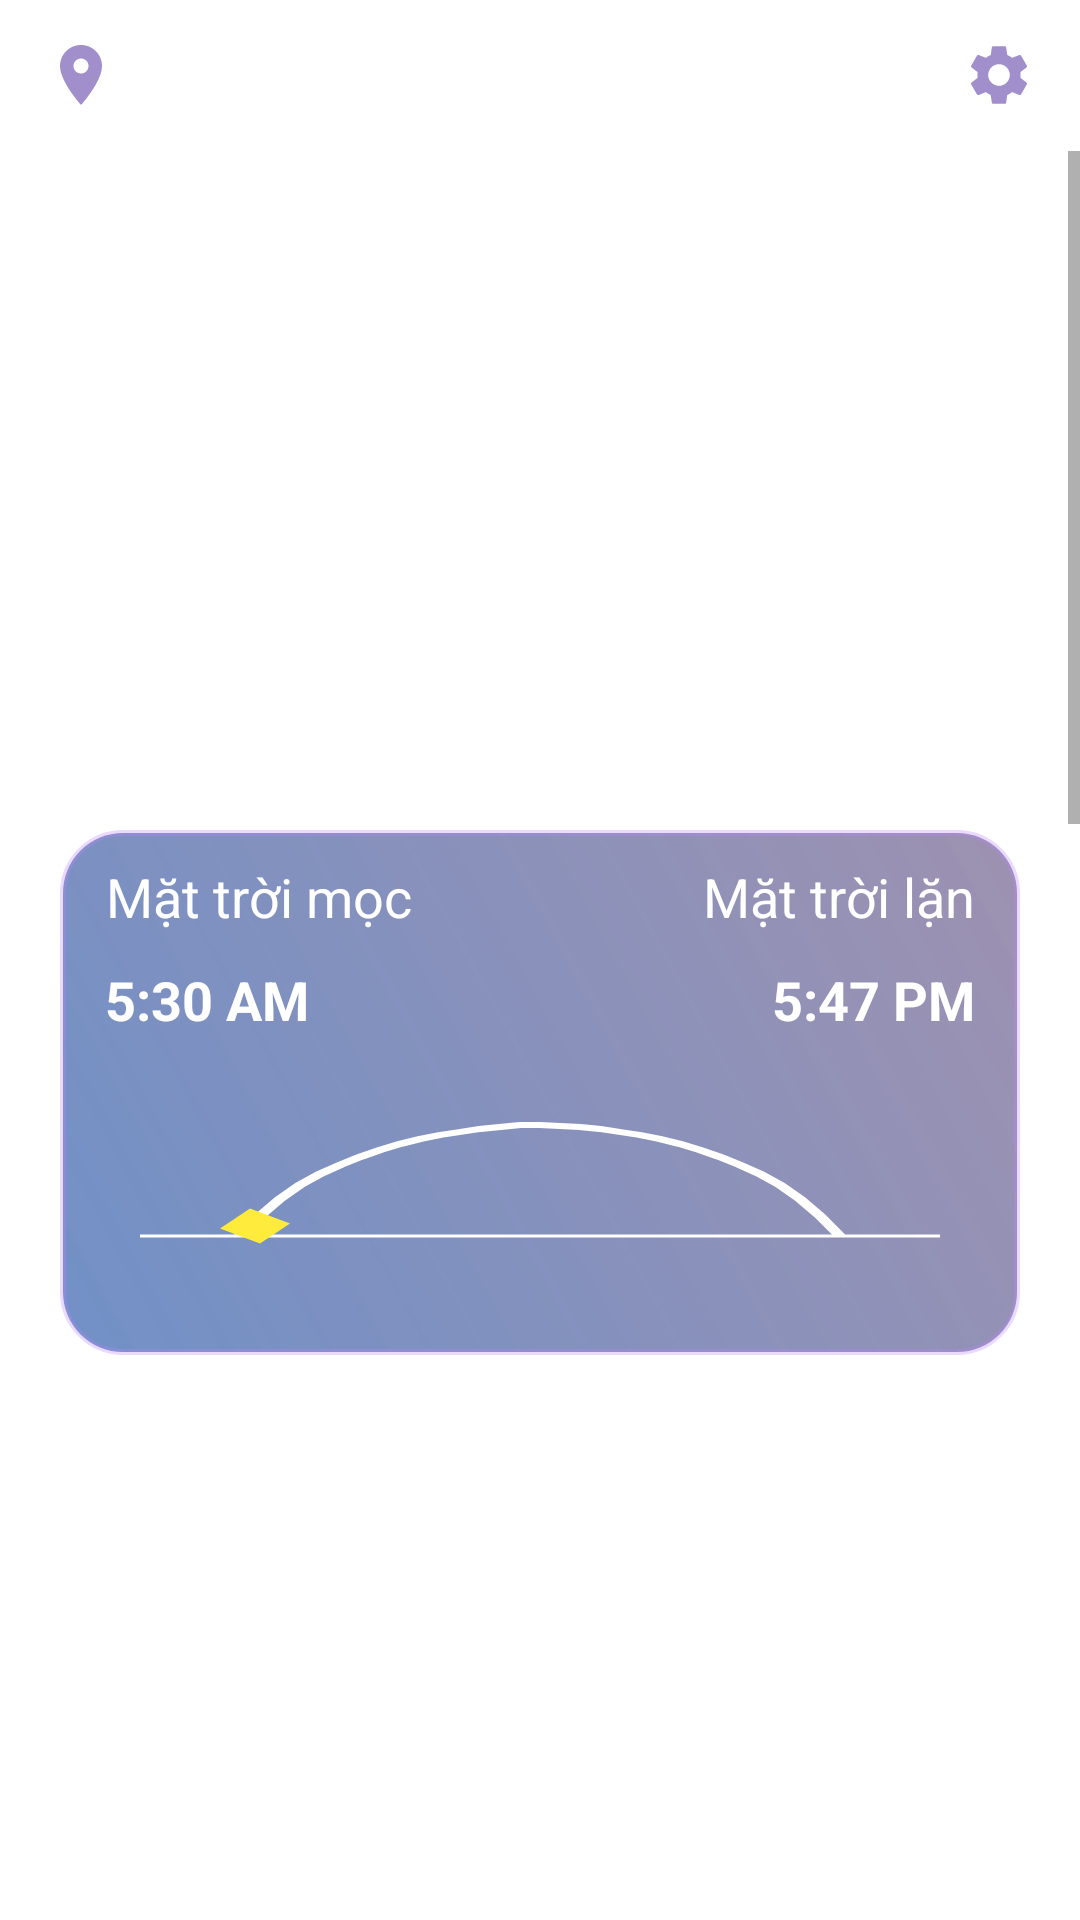

Named icons in this screenshot (1080*1920) and their bounding boxes, (x1, y1, x2, y2):
location on: (60, 45, 102, 105)
settings: (971, 46, 1027, 104)
